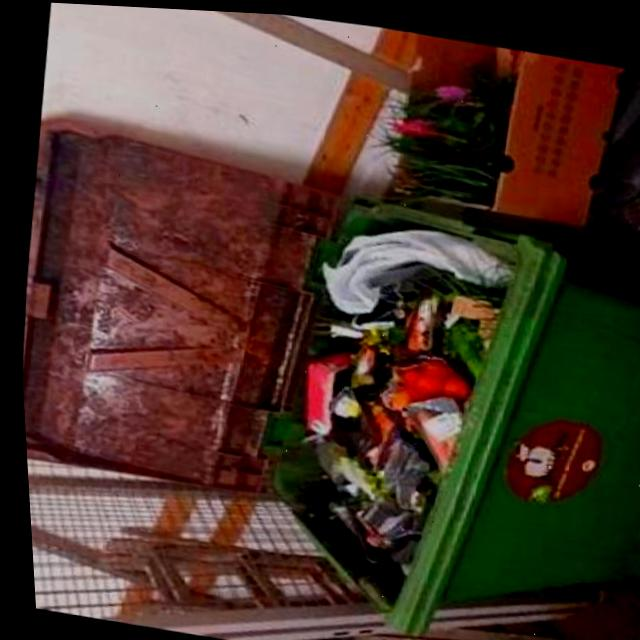Garbage: (300, 224, 508, 566), (378, 63, 511, 198)
Plastic: (326, 382, 373, 449)
